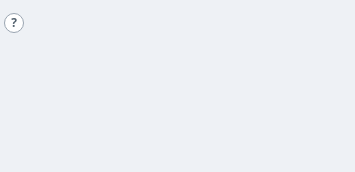
Test: LabelHelp › is an accessible button; click opens the bubble, Esc closes it
Click the button named "Nápověda k poli". click: [14, 22]
box: [4,12,24,32]
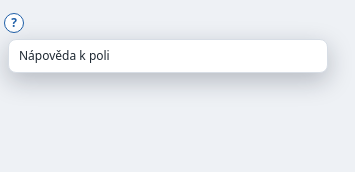
Expected: the tooltip reads "Nápověda k poli", [19,46,110,64]
Press Escape in the button named "Nápověda k poli", box [4,12,24,32]
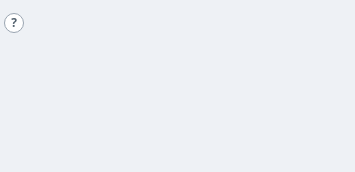
Expected: the tooltip "Nápověda k poli" is gone
Click the button named "Nápověda k poli". click: [14, 22]
box: [4,12,24,32]
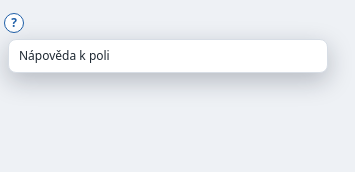
Leave the button named "Nápověda k poli", box [4,12,24,32]
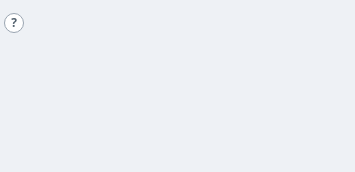
Expected: the tooltip "Nápověda k poli" is gone
